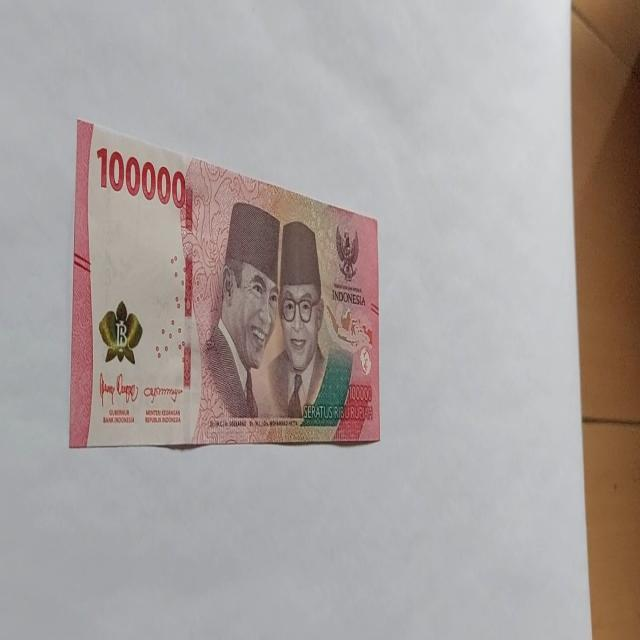seratus ribu rupiah: (68, 117, 382, 450), (193, 200, 281, 440)
